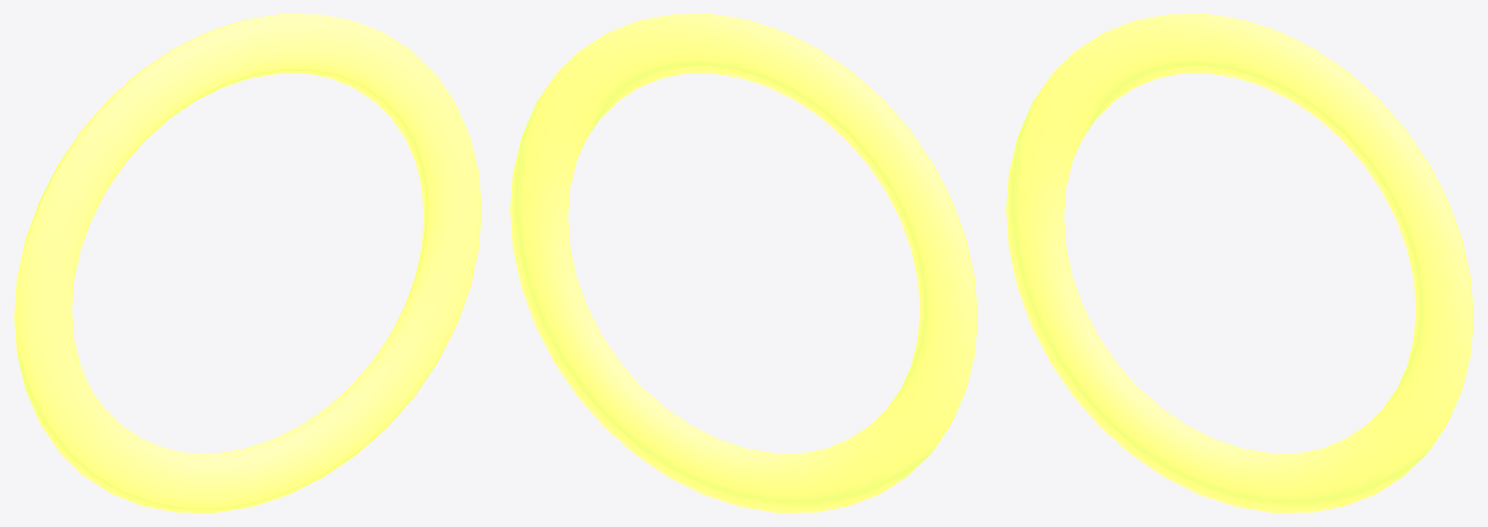
File: ShockRing.fbx
3 renders of one model, left to right at view 1: azimuth 30°, elevation 25°; view 2: azimuth 150°, elevation 25°; view 3: azimuth 330°, elevation 25°, orthographic.
Visible parts, largest first — view 1: ShockRing; view 2: ShockRing; view 3: ShockRing.
Part boxes in pixels (x1,y1,x2,y2): ShockRing: (14,14,481,512); ShockRing: (510,14,977,512); ShockRing: (1006,14,1473,512).
Bounding box in the file's own units: 1.99 × 1.99 × 0.14.
